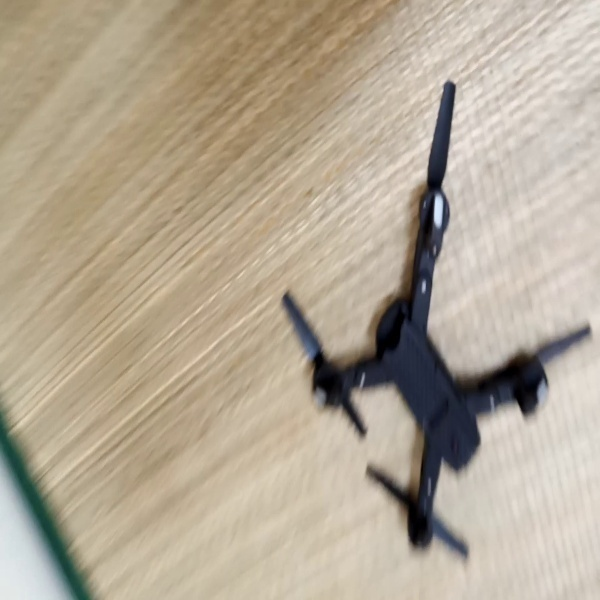drone: (272, 78, 597, 566)
